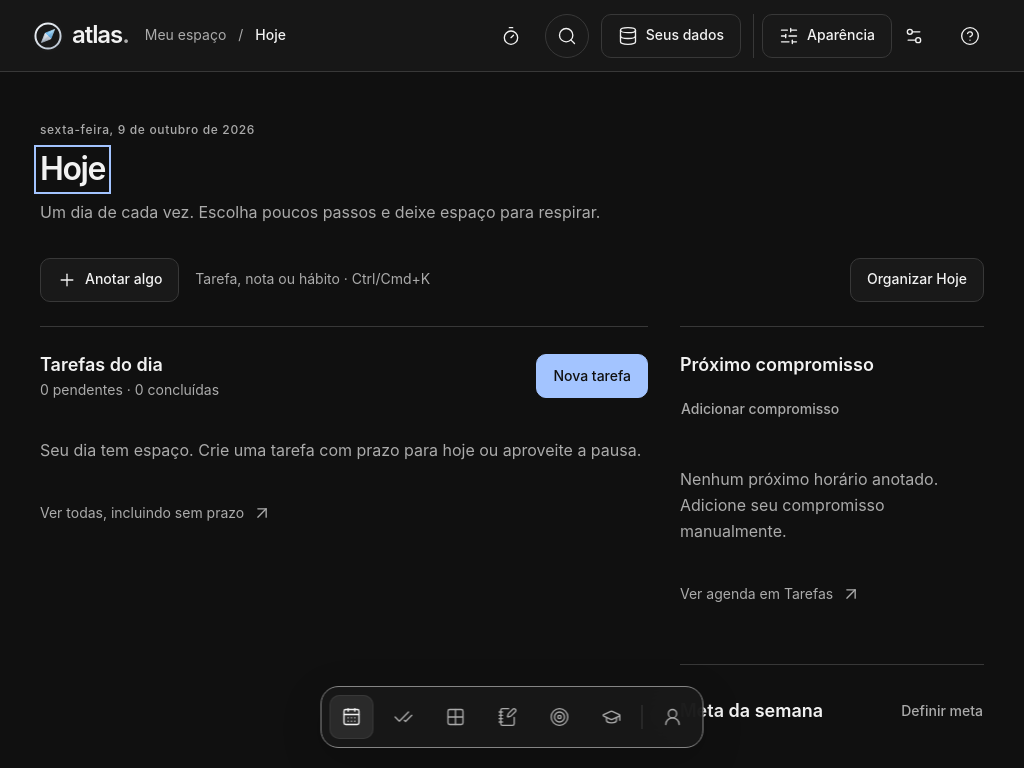
Scenario: altera tema, salva preferências e devolve foco ao fechar com Escape
This screenshot has width=1024, height=768.
Check: the heading "Hoje" is shown, box [40, 151, 105, 188]
Step 1. Click the button "Aparência" → (827,36), box [762, 14, 892, 58]
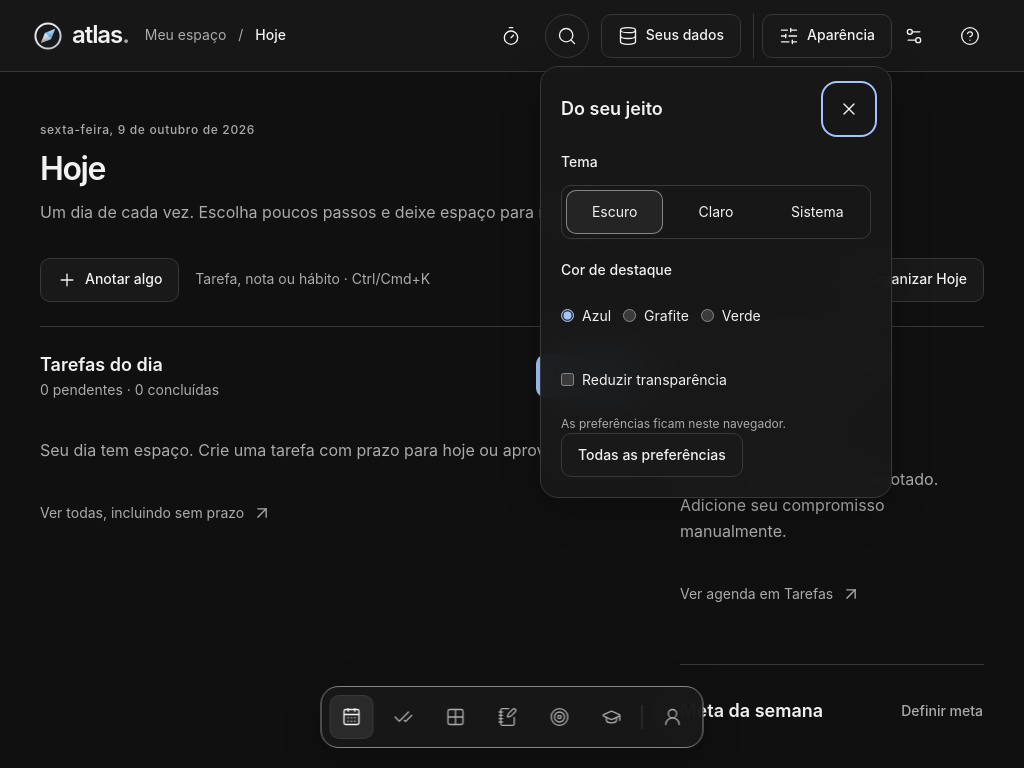
Step 2. Click the radio button labelled "Claro" → (716,212), box [698, 203, 733, 220]
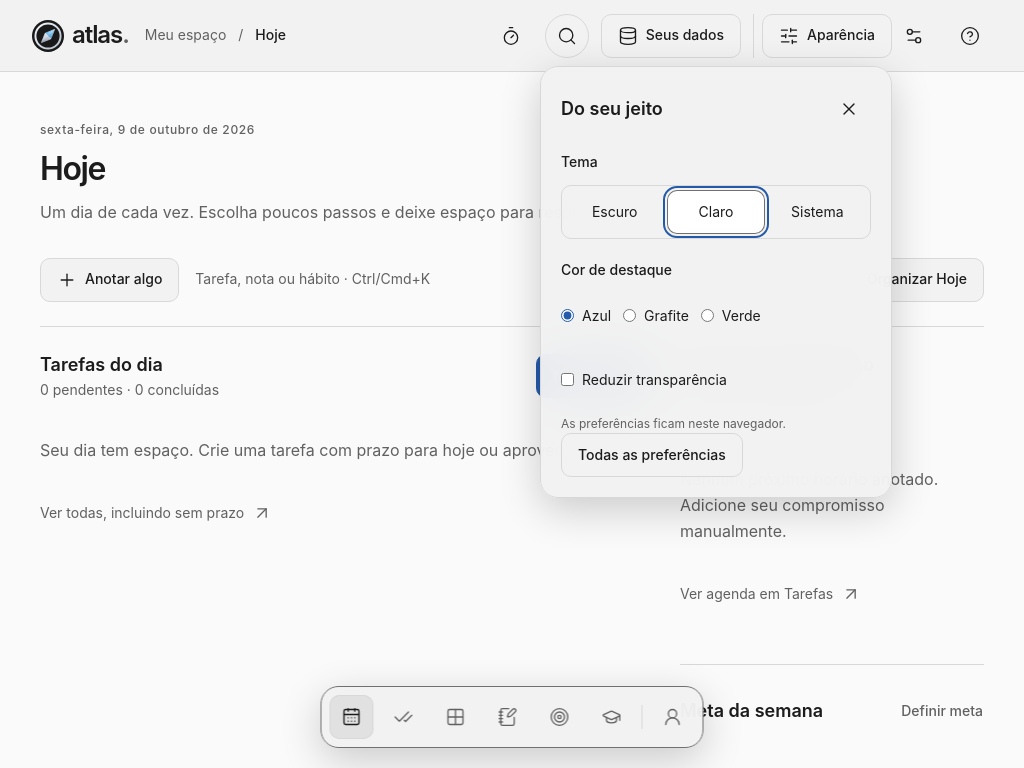
Step 3. Press Escape
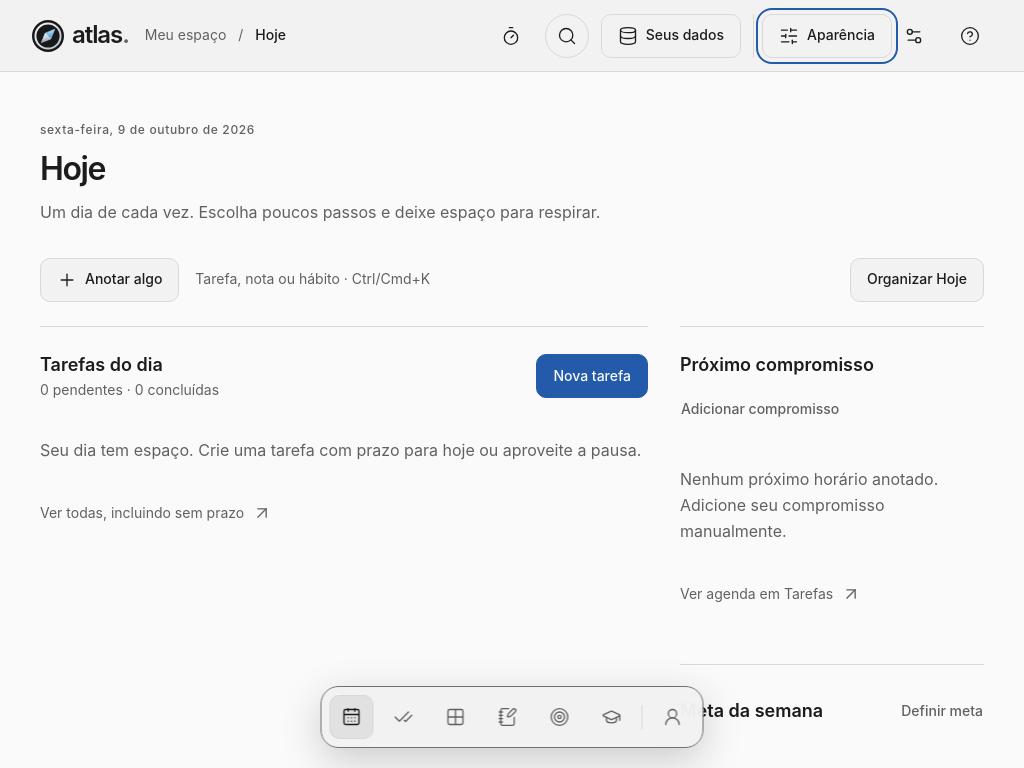
Check: the text "Claro" is gone
